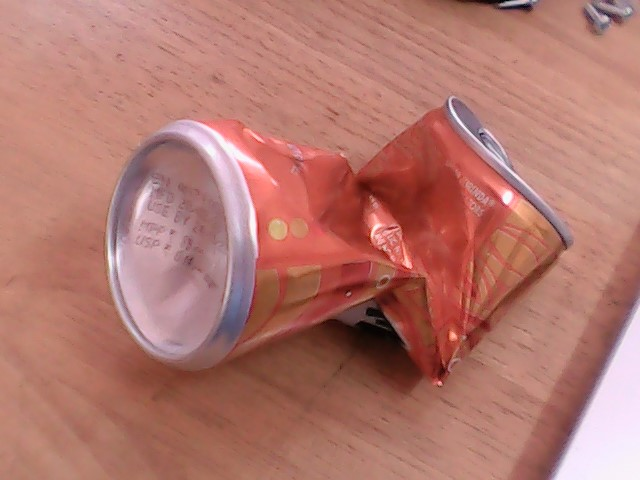Metal: (102, 125, 640, 358)
